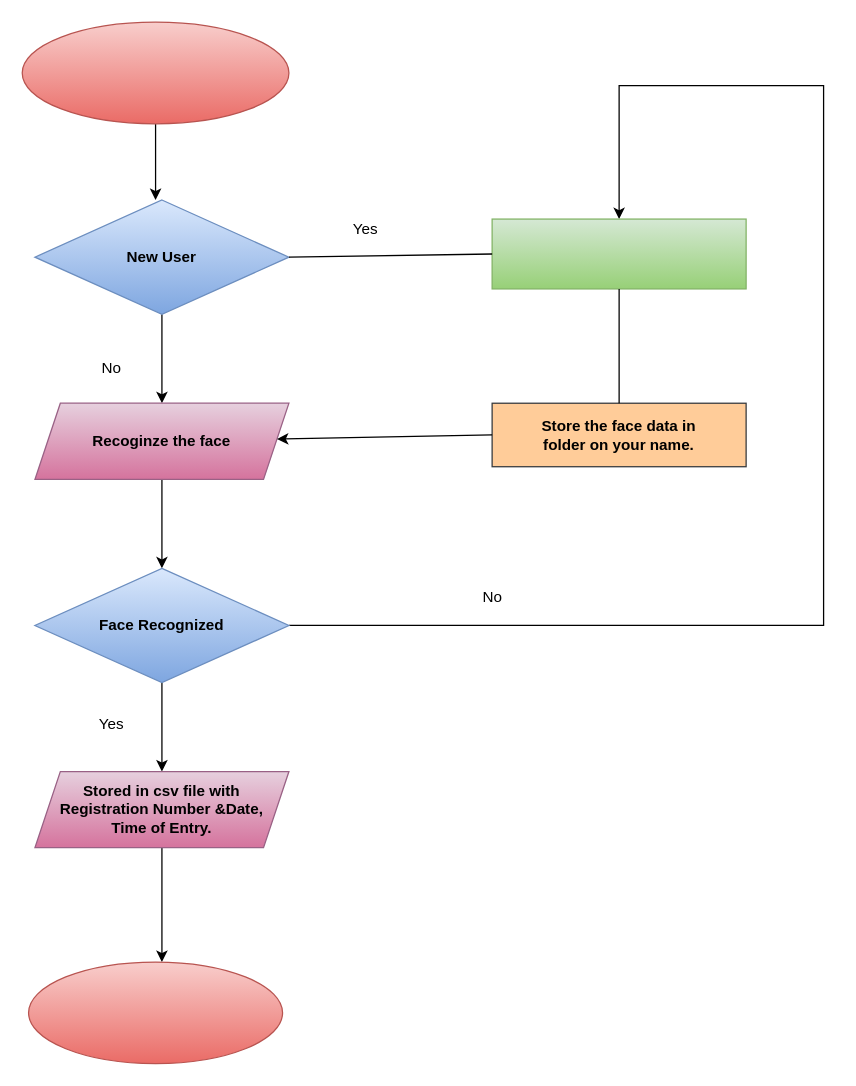
The diagram is 856 pixels wide and 1086 high, and some of its shapes have lost their labels. The shapes that lost their labels are listed below. From the top down, each one's centre as x and y in pixels, then its label:
point 155,72: Start
point 618,253: Give your Photograph
point 155,1012: End
